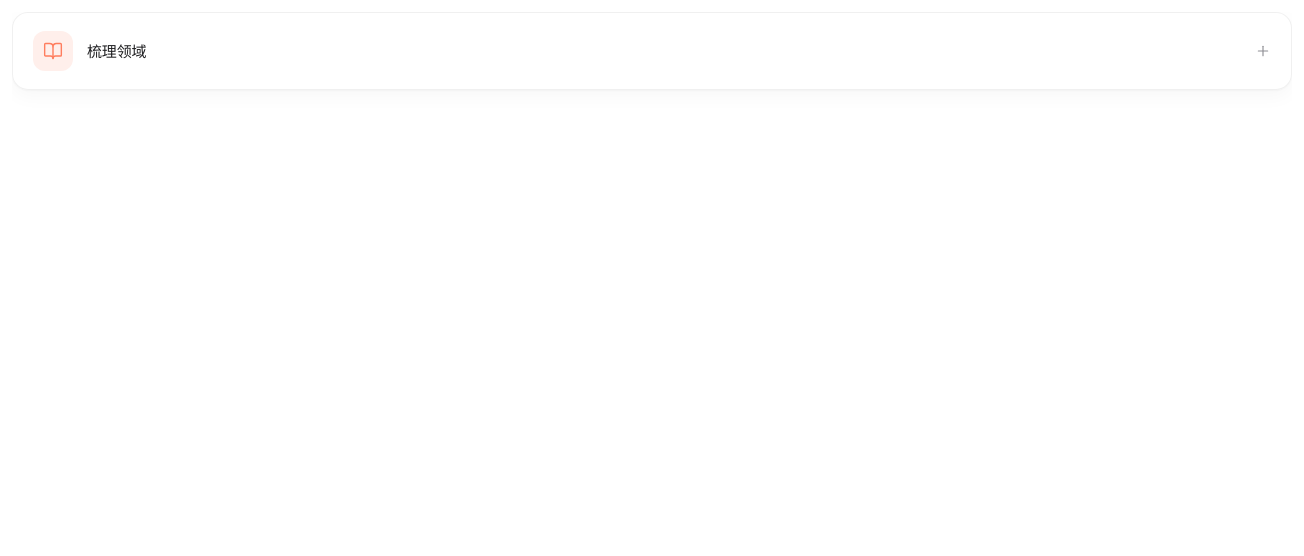
research discovery interaction › starts a survey from the entry without showing a linked project
Later steps or results of the test are not shown.
Click the button with class "research-entry": [53, 51] box [12, 12, 1292, 90]
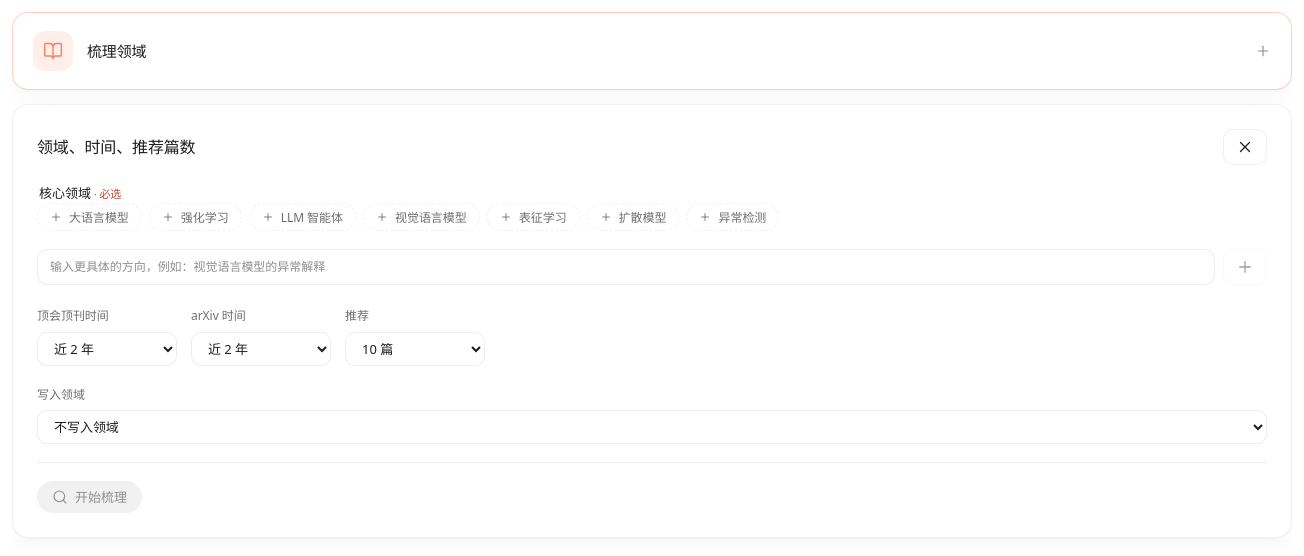
Expected: the form shows "领域", [37, 136, 195, 158]
Expected: the form shows "大语言模型", [37, 203, 142, 231]
Expected: the form shows "扩散模型", [587, 203, 680, 231]
